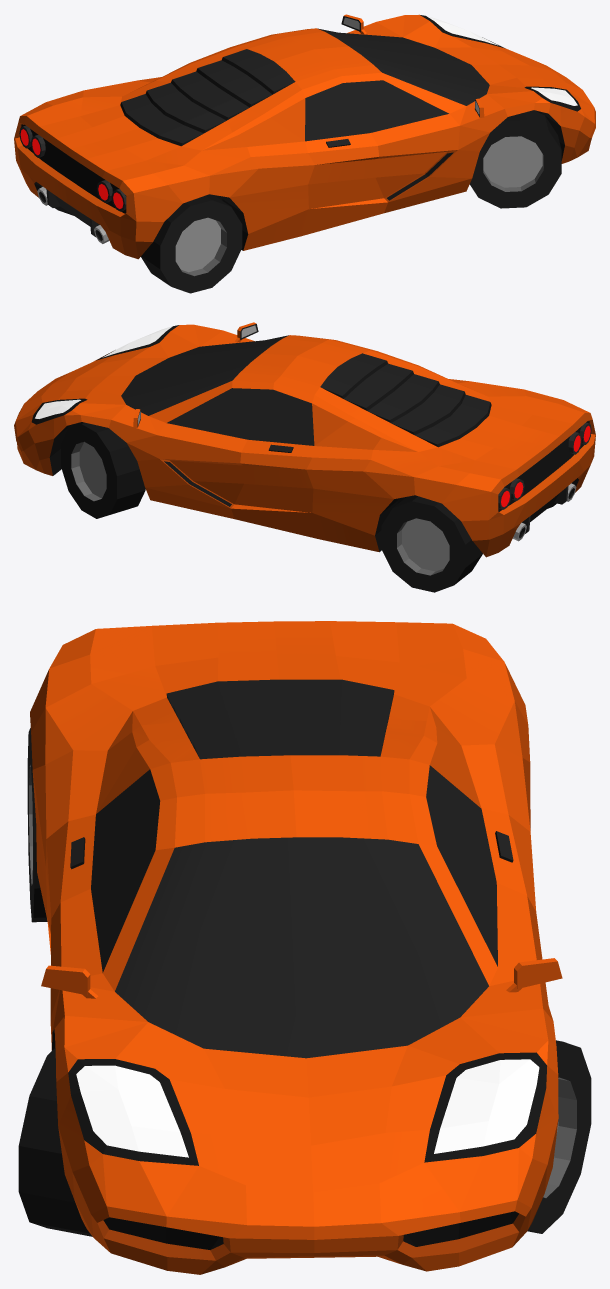
The model's file is Car_090.glb.
3 renders of one model, top to bottom at view 1: azimuth 30°, elevation 25°; view 2: azimuth 150°, elevation 25°; view 3: azimuth 270°, elevation 25°, orthographic. The views are drawn at different scales.
Parts seen in each view (by area): view 1: Car_090, wheel_2_Car_090_Wheel_3R, wheel_0_Car_090_Wheel_1R; view 2: Car_090, wheel_3_Car_090_Wheel_4L, wheel_1_Car_090_Wheel_2L; view 3: Car_090, wheel_0_Car_090_Wheel_1R, wheel_1_Car_090_Wheel_2L, wheel_2_Car_090_Wheel_3R.
Boxes of the visible parts, box(x1,y1,x2,y2) form: Car_090: box(14, 14, 595, 259); wheel_2_Car_090_Wheel_3R: box(141, 194, 242, 293); wheel_0_Car_090_Wheel_1R: box(469, 110, 561, 208); Car_090: box(14, 322, 595, 557); wheel_3_Car_090_Wheel_4L: box(381, 495, 482, 592); wheel_1_Car_090_Wheel_2L: box(61, 423, 145, 518); Car_090: box(30, 621, 562, 1274); wheel_0_Car_090_Wheel_1R: box(18, 1048, 92, 1236); wheel_1_Car_090_Wheel_2L: box(527, 1040, 591, 1233); wheel_2_Car_090_Wheel_3R: box(27, 728, 47, 922).
Bounding box in the file's own units: 4.66 × 1.29 × 2.27.
3 materials, 3 textured.
